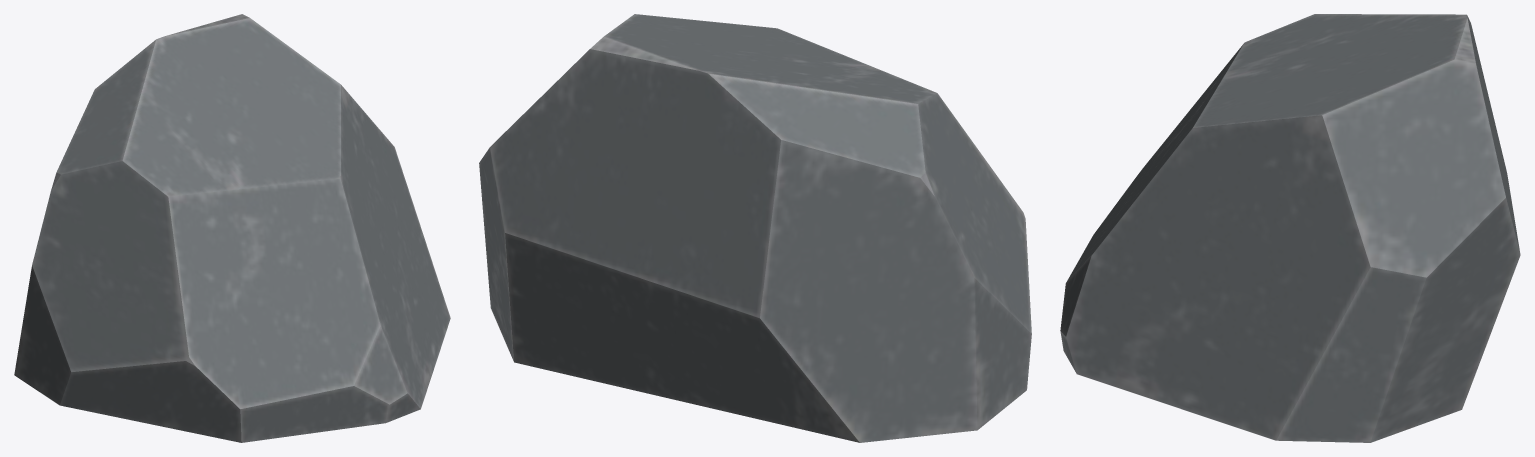
The model's file is rock9.glb.
3 renders of one model, left to right at view 1: azimuth 30°, elevation 25°; view 2: azimuth 150°, elevation 25°; view 3: azimuth 270°, elevation 25°, orthographic. The views are drawn at different scales.
Visible parts, largest first — view 1: rock_009; view 2: rock_009; view 3: rock_009.
Part boxes in pixels (x1=…): rock_009: x1=14, y1=14, x2=450, y2=442; rock_009: x1=479, y1=14, x2=1031, y2=442; rock_009: x1=1060, y1=14, x2=1520, y2=442.
Size of the model in its own units: 0.4642 by 0.3086 by 0.4115.
Materials: 1 (1 with a texture image).
